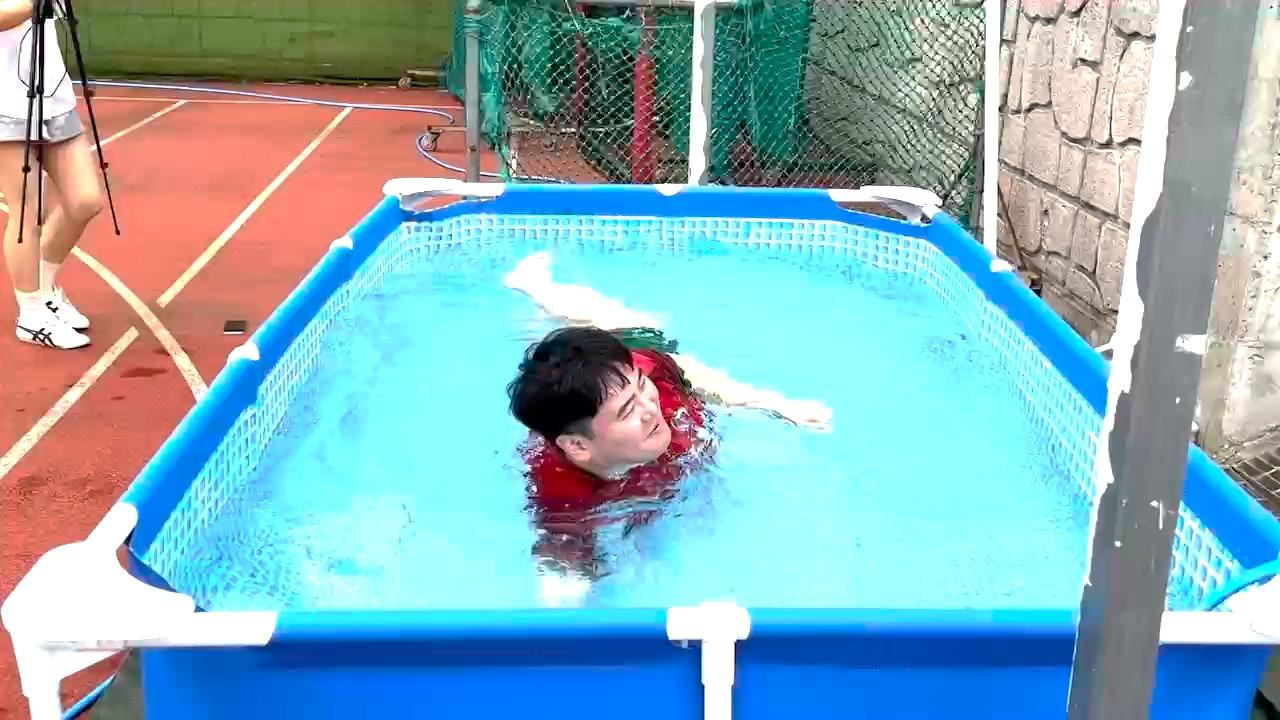Swimming: (430, 195, 860, 605)
